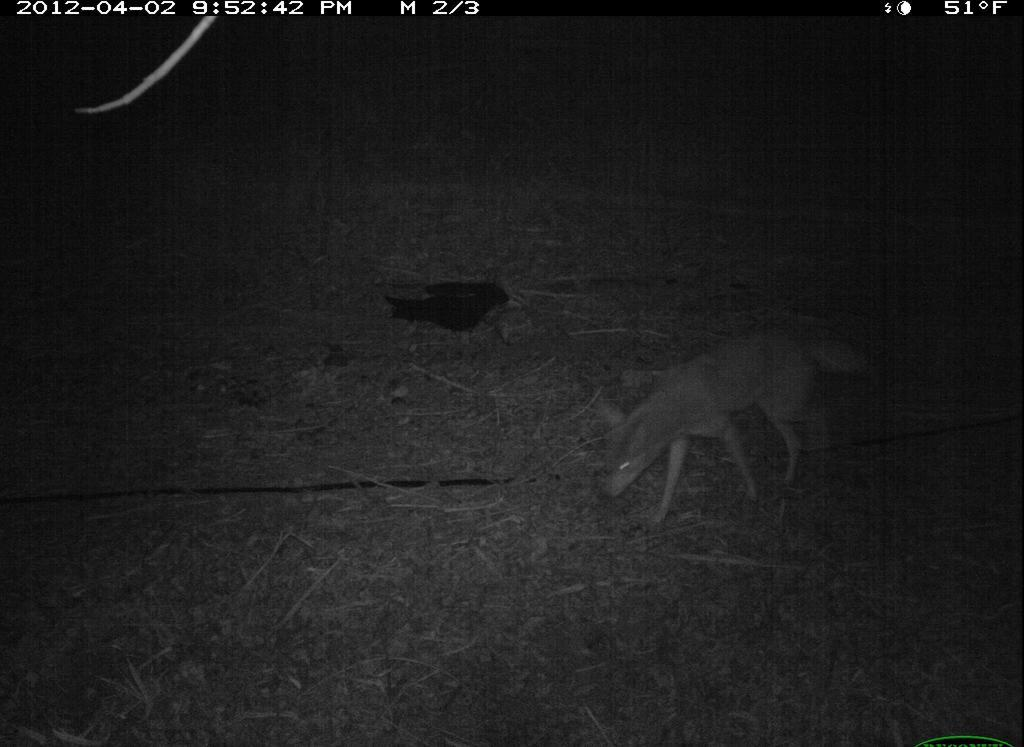coyote: (583, 315, 877, 530)
